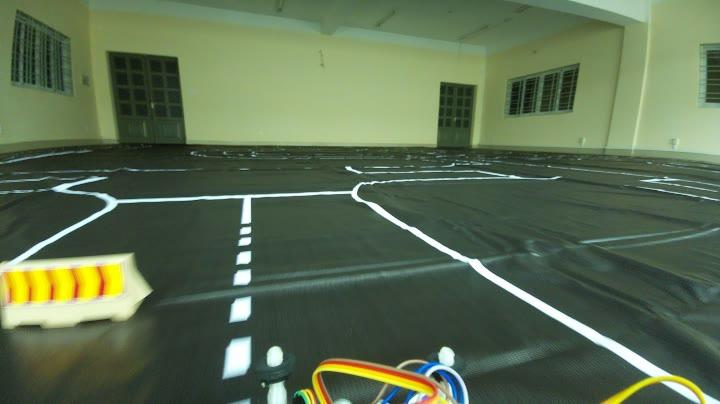roadblock: (5, 263, 162, 324)
